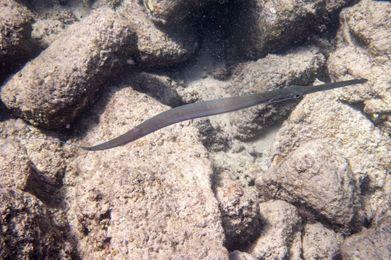Fistularia commersonii: (45, 53, 372, 173)
